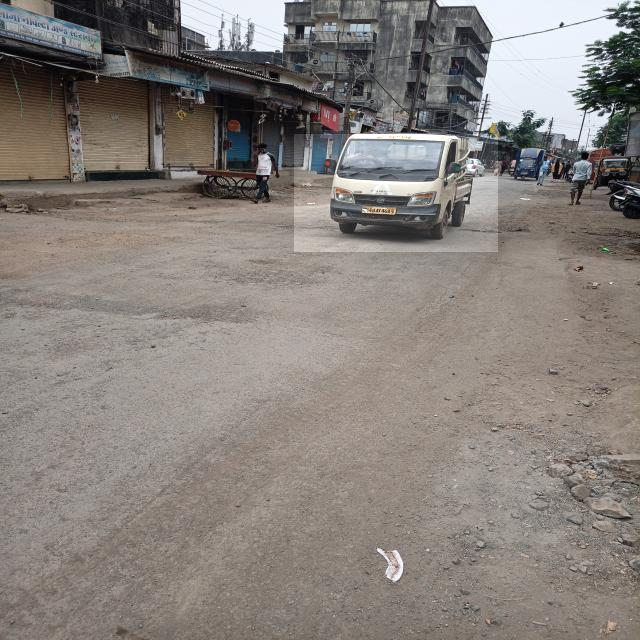Travller: (294, 134, 498, 252)
